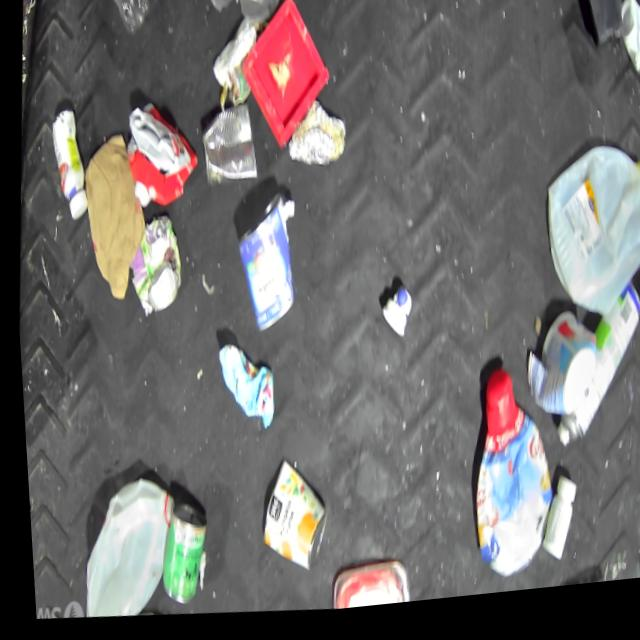can: (541, 285, 640, 466), (223, 193, 298, 344), (247, 459, 327, 583), (120, 212, 185, 325), (147, 498, 205, 611), (193, 100, 259, 197), (613, 2, 640, 92)
milk_jug: (531, 149, 640, 334), (69, 472, 173, 624)
plastic_bottle: (97, 0, 152, 43)
